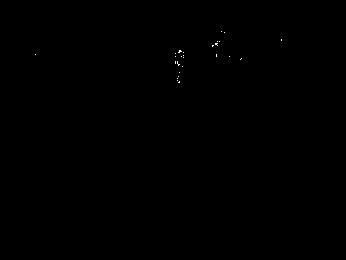person: (176, 47, 185, 84)
